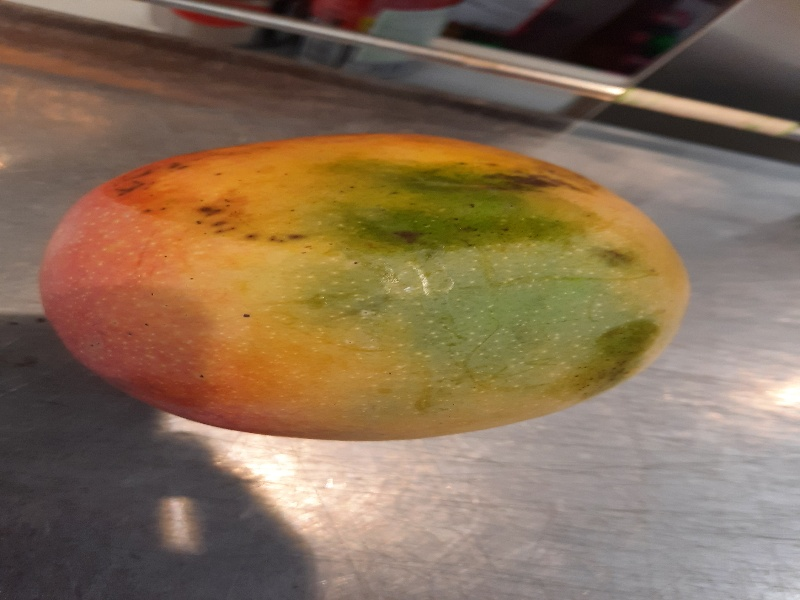fruit: (31, 134, 689, 444)
